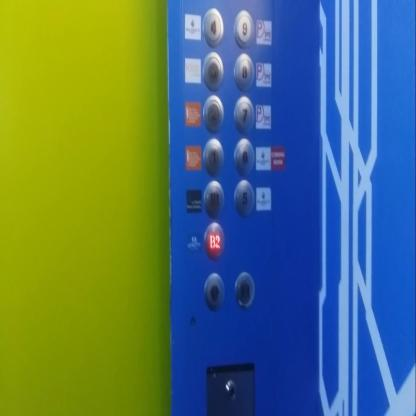1: (202, 138, 224, 176)
2: (202, 93, 224, 132)
4: (202, 7, 223, 47)
5: (233, 178, 255, 216)
6: (233, 138, 255, 177)
7: (233, 95, 255, 134)
8: (233, 50, 255, 91)
9: (233, 8, 254, 48)
B1: (203, 180, 225, 218)
B2: (203, 221, 224, 259)
blur: (202, 51, 224, 90)
close: (234, 270, 255, 310)
keyhole: (218, 370, 240, 402)
open: (203, 272, 226, 311)
